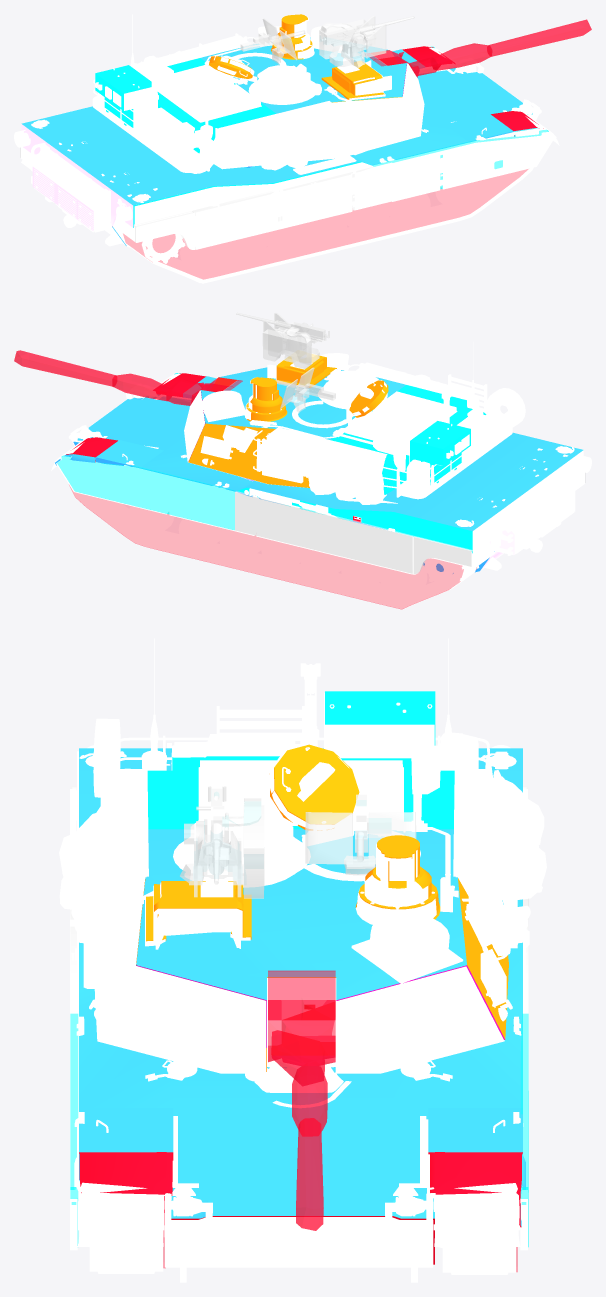
3 renders of one model, top to bottom at view 1: azimuth 30°, elevation 25°; view 2: azimuth 150°, elevation 25°; view 3: azimuth 270°, elevation 25°, orthographic. The views are drawn at different scales.
Parts seen in each view (by area): view 1: 19001, 19001_3, m1a2_hull_colmesh002, m1a2_hull_track_right_57, 19001_2, 19001_6, m1a2_turret_COL001_3, M1A2_Gun_ColMesh3_33, m1a2_turret_COL001, 19001_4, m1a2_hull_colmesh002_3, m1a2_turret_COL001_1 (+10 smaller); view 2: 19001, m1a2_hull_colmesh002, 19001_3, m1a2_hull_track_left_54, m1a2_sideskirt_col_left002, m1a2_sideskirt_col_left002_1, m1a2_turret_COL001_1, 19001_1, 19001_6, 19001_4, m1a2_turret_COL001, M1A2_Gun_ColMesh3_33 (+8 smaller); view 3: 19001_3, m1a2_hull_colmesh002, 19001, m1a2_turret_COL001_3, M1A2_Gun_ColMesh3_33, m1a2_turret_COL001_1, 19001_4, m1a2_turret_COL001, 19001_6, m1a2_hull_colmesh002_1, crows_turret_col3_45, M240_Loaders_Turret_Col001 (+10 smaller).
Boxes of the visible parts, x1=… form: 19001: x1=14, y1=47, x2=559, y2=277; 19001_3: x1=92, y1=14, x2=424, y2=172; m1a2_hull_colmesh002: x1=21, y1=49, x2=538, y2=245; m1a2_hull_track_right_57: x1=123, y1=169, x2=527, y2=279; 19001_2: x1=125, y1=167, x2=533, y2=283; 19001_6: x1=133, y1=26, x2=342, y2=173; m1a2_turret_COL001_3: x1=200, y1=37, x2=406, y2=113; M1A2_Gun_ColMesh3_33: x1=369, y1=19, x2=591, y2=77; m1a2_turret_COL001: x1=95, y1=58, x2=275, y2=168; 19001_4: x1=98, y1=45, x2=342, y2=170; m1a2_hull_colmesh002_3: x1=21, y1=124, x2=133, y2=245; m1a2_turret_COL001_1: x1=209, y1=14, x2=401, y2=102; 19001: x1=51, y1=373, x2=591, y2=601; m1a2_hull_colmesh002: x1=55, y1=376, x2=583, y2=573; 19001_3: x1=184, y1=342, x2=512, y2=499; m1a2_hull_track_left_54: x1=69, y1=485, x2=476, y2=609; m1a2_sideskirt_col_left002: x1=235, y1=491, x2=472, y2=573; m1a2_sideskirt_col_left002_1: x1=57, y1=455, x2=235, y2=530; m1a2_turret_COL001_1: x1=188, y1=354, x2=388, y2=487; 19001_1: x1=69, y1=485, x2=476, y2=609; 19001_6: x1=202, y1=374, x2=525, y2=483; 19001_4: x1=202, y1=374, x2=497, y2=504; m1a2_turret_COL001: x1=331, y1=385, x2=486, y2=494; M1A2_Gun_ColMesh3_33: x1=14, y1=350, x2=242, y2=405; 19001_3: x1=71, y1=638, x2=530, y2=1073; m1a2_hull_colmesh002: x1=79, y1=748, x2=525, y2=1226; 19001: x1=70, y1=743, x2=529, y2=1282; m1a2_turret_COL001_3: x1=136, y1=829, x2=466, y2=999; M1A2_Gun_ColMesh3_33: x1=268, y1=970, x2=335, y2=1230; m1a2_turret_COL001_1: x1=136, y1=744, x2=508, y2=1039; 19001_4: x1=59, y1=732, x2=546, y2=983; m1a2_turret_COL001: x1=147, y1=691, x2=454, y2=829; 19001_6: x1=93, y1=706, x2=517, y2=974; m1a2_hull_colmesh002_1: x1=79, y1=1152, x2=522, y2=1264; crows_turret_col3_45: x1=180, y1=805, x2=264, y2=898; M240_Loaders_Turret_Col001: x1=305, y1=812, x2=416, y2=875.
Size of the model in its own units: 10.31 by 3.7 by 4.14.
